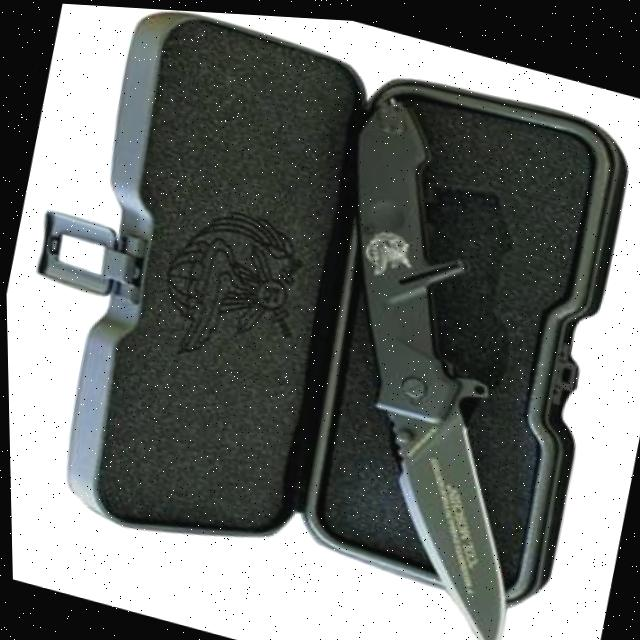knife: (254, 80, 606, 640)
